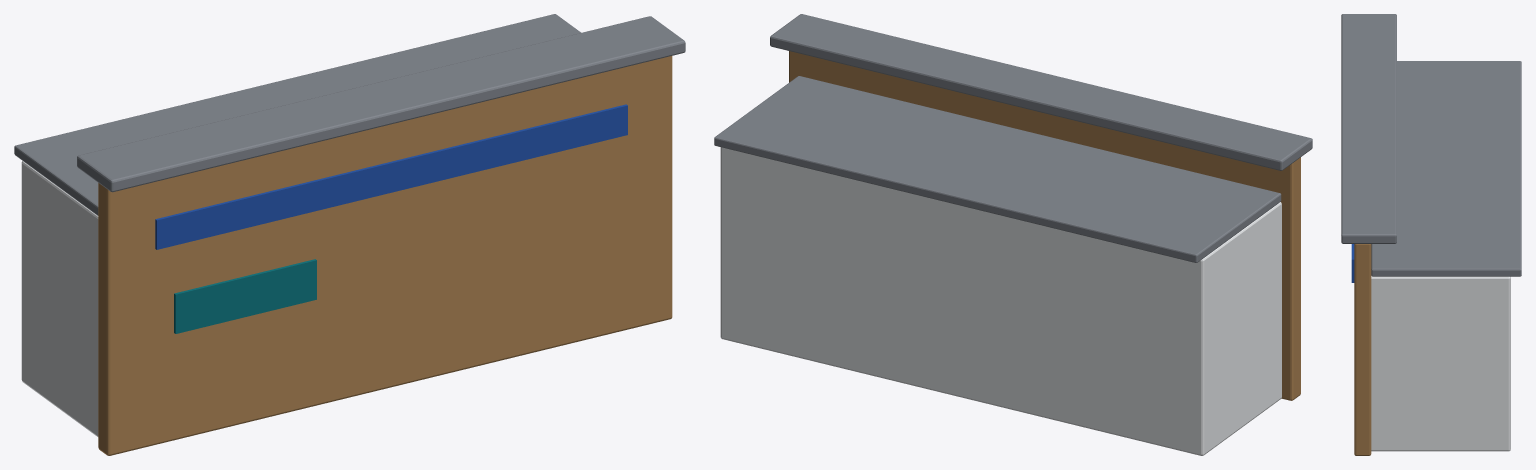
The model's file is mostrador.obj.
The picture shows the model from 3 angles, left to right: view 1: azimuth 30°, elevation 25°; view 2: azimuth 150°, elevation 25°; view 3: azimuth 270°, elevation 25°; orthographic projection. The views are drawn at different scales.
Visible parts, largest first — view 1: pieza_1, pieza_5, pieza_0, pieza_4, pieza_2, pieza_3; view 2: pieza_0, pieza_4, pieza_5, pieza_1; view 3: pieza_4, pieza_0, pieza_5, pieza_1.
Part boxes in pixels (box(x1,y1,x2,y2)): pieza_1: box(98, 56, 672, 455); pieza_5: box(77, 16, 685, 192); pieza_0: box(21, 161, 98, 436); pieza_4: box(14, 14, 581, 215); pieza_2: box(155, 104, 627, 249); pieza_3: box(174, 259, 316, 333); pieza_0: box(720, 147, 1281, 455); pieza_4: box(714, 76, 1281, 262); pieza_5: box(770, 14, 1312, 170); pieza_1: box(789, 51, 1300, 400); pieza_4: box(1371, 61, 1521, 276); pieza_0: box(1371, 276, 1510, 451); pieza_5: box(1341, 14, 1396, 243); pieza_1: box(1354, 244, 1371, 455).
Bounding box in the file's own units: 2.44 × 1.15 × 0.84.
